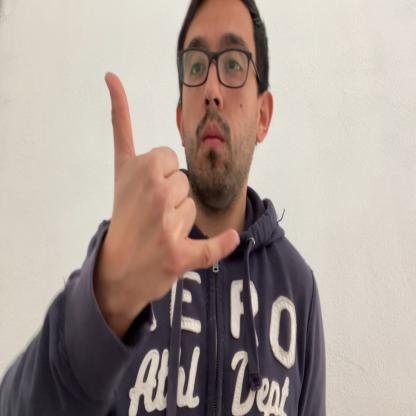Y: (103, 72, 240, 300)
